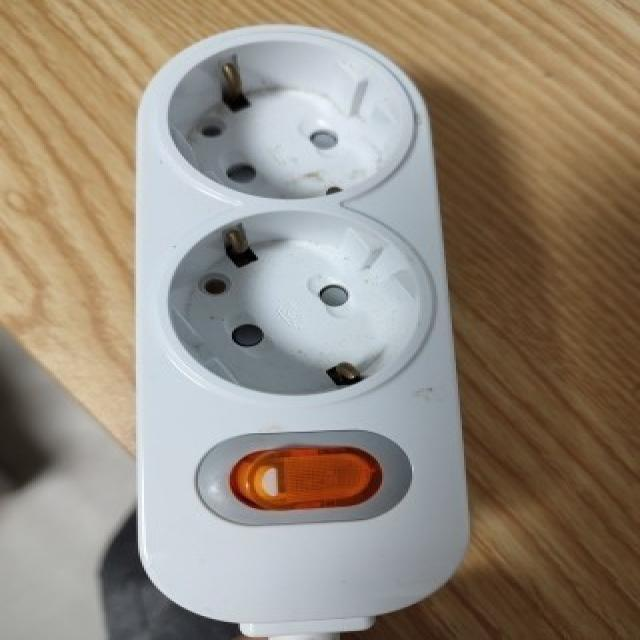typeb: (78, 6, 611, 586)
